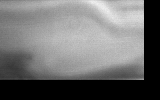cell: (44, 56, 66, 75)
